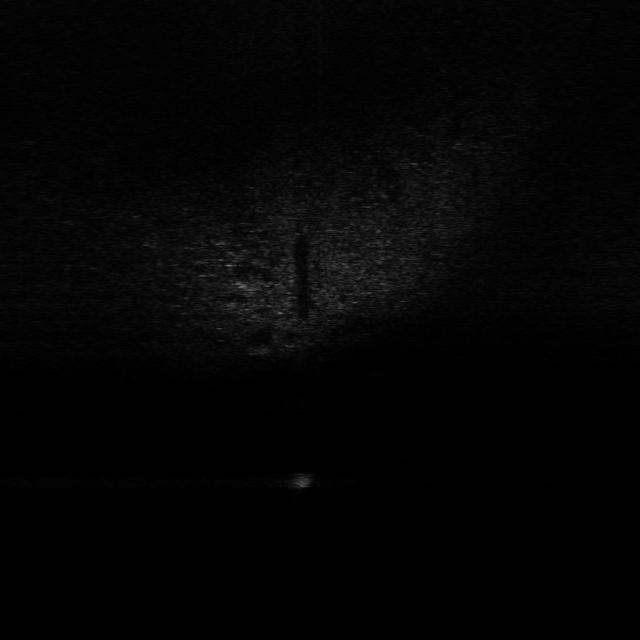cylinder: (290, 467, 314, 492)
